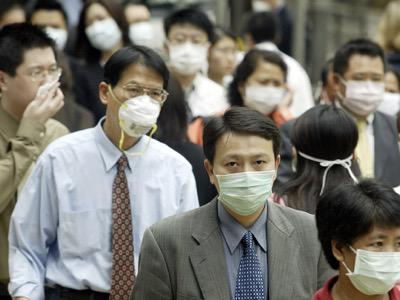with_mask: (212, 148, 277, 217), (343, 231, 399, 295), (107, 80, 164, 135), (338, 67, 385, 116), (167, 30, 209, 78), (241, 74, 286, 116), (83, 10, 121, 52), (32, 18, 70, 53), (127, 13, 154, 47), (379, 84, 399, 117)
without_mask: (7, 59, 61, 111), (209, 44, 237, 75)
